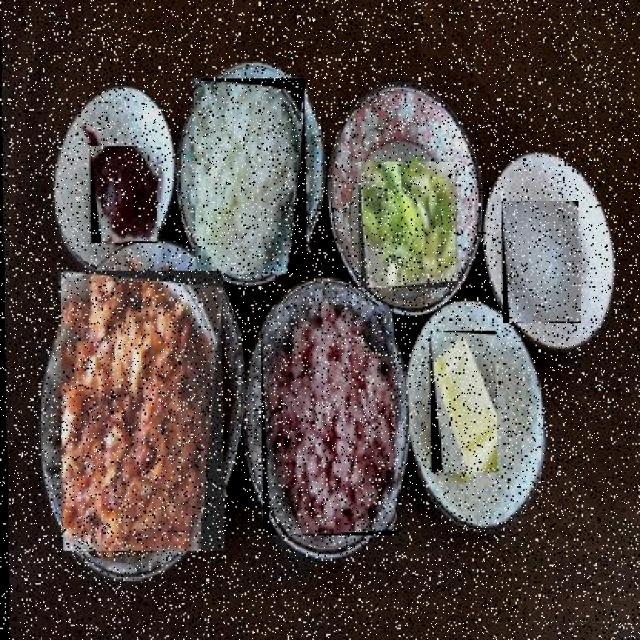Kimchi: (58, 271, 225, 552)
Onion Leaves: (357, 162, 457, 289)
Pork: (258, 305, 396, 537)
Sugar: (501, 200, 581, 325)
Tofu: (428, 331, 498, 474)
